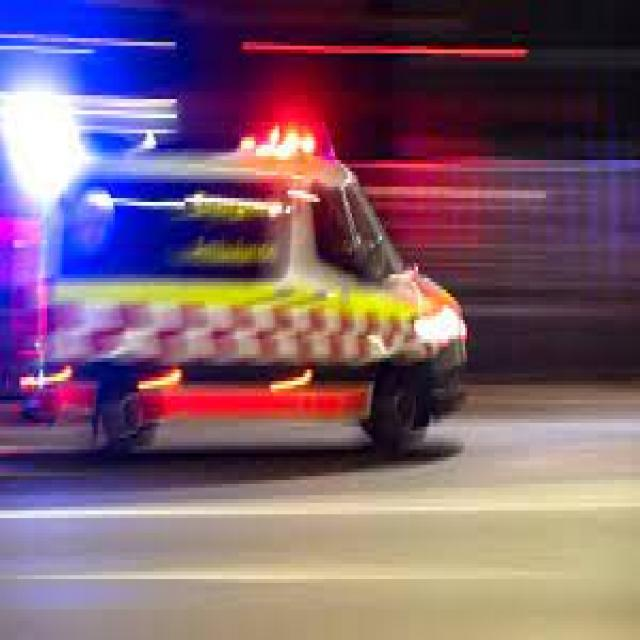emergency-vehicle: (26, 88, 476, 458)
